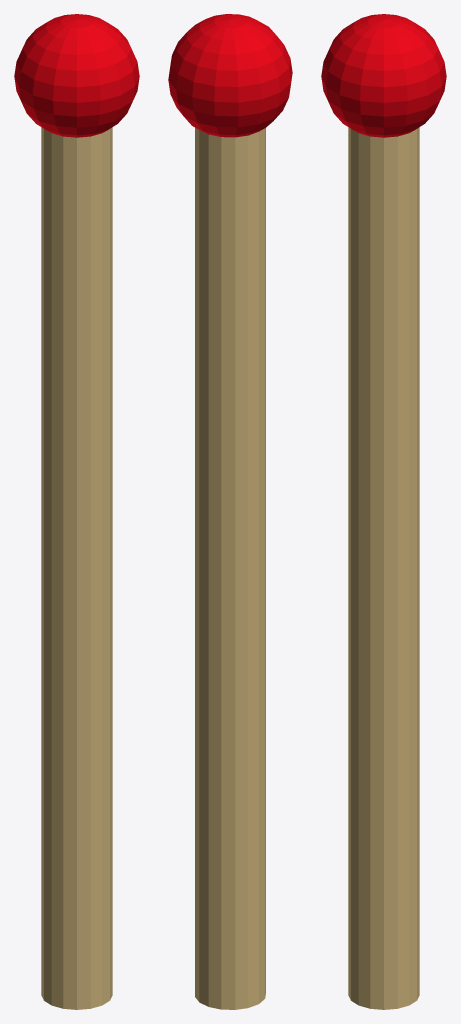
Rendered from SM_KIBRIT.fbx.
The picture shows the model from 3 angles, left to right: view 1: azimuth 90°, elevation 25°; view 2: azimuth 210°, elevation 25°; view 3: azimuth 270°, elevation 25°; orthographic projection.
Parts seen in each view (by area): view 1: Cylinder.002; view 2: Cylinder.002; view 3: Cylinder.002.
Boxes of the visible parts, left/top/right/bottom form: Cylinder.002: left=14, top=14, right=139, bottom=1009; Cylinder.002: left=168, top=14, right=292, bottom=1009; Cylinder.002: left=321, top=14, right=446, bottom=1009.
Size of the model in its own units: 14 by 120 by 14.
